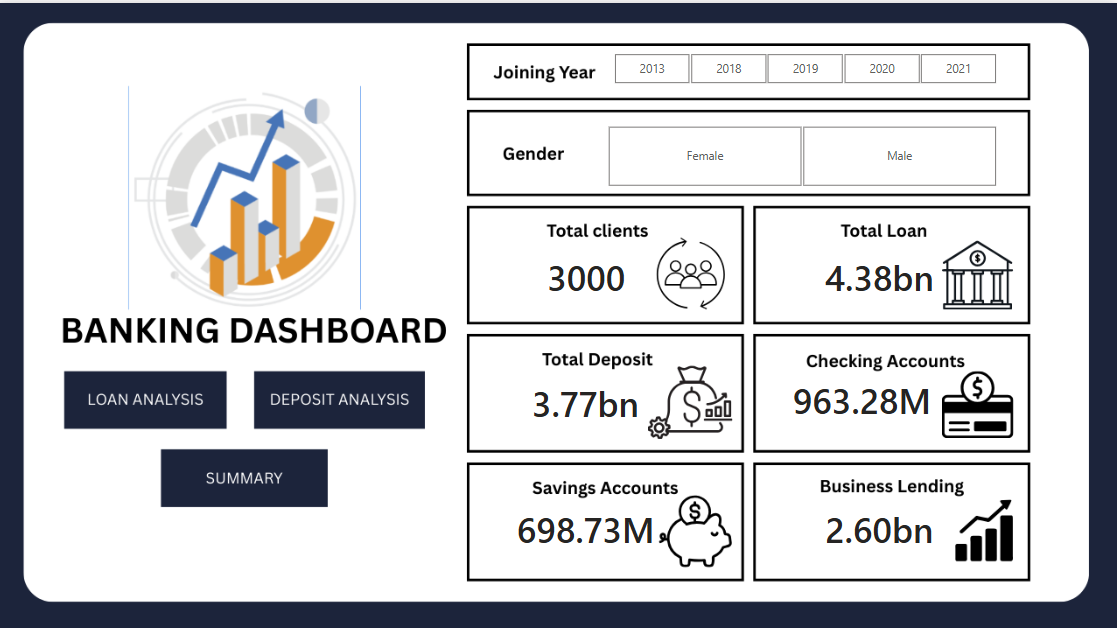

The page's visual inventory and layout, read from the dashboard file:
{"tool":"powerbi","page":{"name":"Home","canvas":[1280,720],"ordinal":0},"visuals":[{"type":"card","fields":{"Values":["CountNonNull(banking customer.Name)"]},"box":[574.3,235.7,198.6,154.3],"z":0},{"type":"slicer","fields":{"Values":["banking customer.GenderId"]},"box":[672.9,134.3,492.9,81.4],"z":1000},{"type":"card","fields":{"Values":["banking customer.Total Loan"]},"box":[868.6,225.7,280,174.3],"z":2000},{"type":"card","fields":{"Values":["banking customer.Total Deposit"]},"box":[532.9,370,280,174.3],"z":3000},{"type":"card","fields":{"Values":["Sum(banking customer.Checking Accounts)"]},"box":[848.6,367.1,280,174.3],"z":4000},{"type":"card","fields":{"Values":["Sum(banking customer.Saving Accounts)"]},"box":[532.9,514.3,280,174.3],"z":5000},{"type":"card","fields":{"Values":["Sum(banking customer.Business Lending)"]},"box":[868.6,514.3,280,174.3],"z":6000},{"type":"slicer","fields":{"Values":["banking customer.Year of joining"]},"box":[680,51.4,485.7,47.1],"z":7000},{"type":"actionButton","box":[81.4,424.3,180,58.6],"z":8000},{"type":"actionButton","box":[188.6,514.3,188.6,60],"z":9000},{"type":"actionButton","box":[292.9,424.3,197.1,58.6],"z":10000}]}

Visuals, with their boxes in screenshot pixels (x1, y1, x2, y2), scaled from the page's 1280x720 canvas onto the 1117x628 screenshot:
card - CountNonNull(banking customer.Name): bbox=[501, 206, 674, 340]
slicer - banking customer.GenderId: bbox=[587, 117, 1017, 188]
card - banking customer.Total Loan: bbox=[758, 197, 1002, 349]
card - banking customer.Total Deposit: bbox=[465, 323, 709, 475]
card - Sum(banking customer.Checking Accounts): bbox=[741, 320, 985, 472]
card - Sum(banking customer.Saving Accounts): bbox=[465, 449, 709, 601]
card - Sum(banking customer.Business Lending): bbox=[758, 449, 1002, 601]
slicer - banking customer.Year of joining: bbox=[593, 45, 1017, 86]
actionButton: bbox=[71, 370, 228, 421]
actionButton: bbox=[165, 449, 329, 501]
actionButton: bbox=[256, 370, 428, 421]
